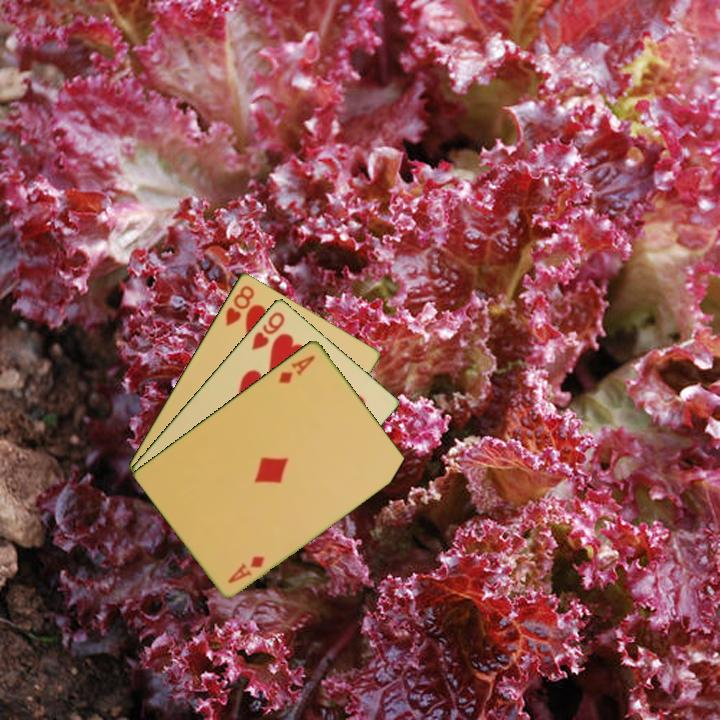8h: (222, 281, 257, 329)
9h: (248, 308, 288, 353)
Ad: (275, 351, 318, 386), (224, 552, 268, 586)
